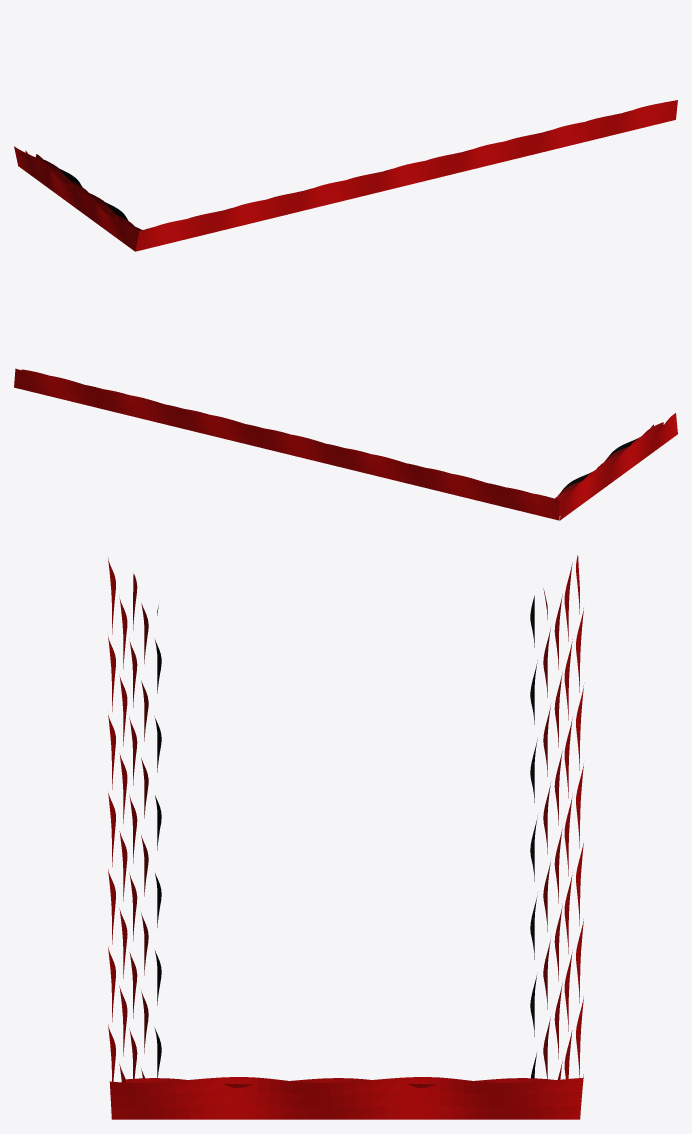
File: frost_fog_layers.glb
3 views of the same model, one above another, from view 1: azimuth 30°, elevation 25°; view 2: azimuth 150°, elevation 25°; view 3: azimuth 270°, elevation 25° (orthographic). The views are drawn at different scales.
Visible parts, largest first — view 1: geometry_0; view 2: geometry_0; view 3: geometry_0.
Boxes of the visible parts, x1,y1,x2,y2 form: geometry_0: [14, 100, 677, 251]; geometry_0: [14, 368, 677, 520]; geometry_0: [107, 555, 583, 1119].
Size of the model in its own units: 3884 by 135 by 1466.
